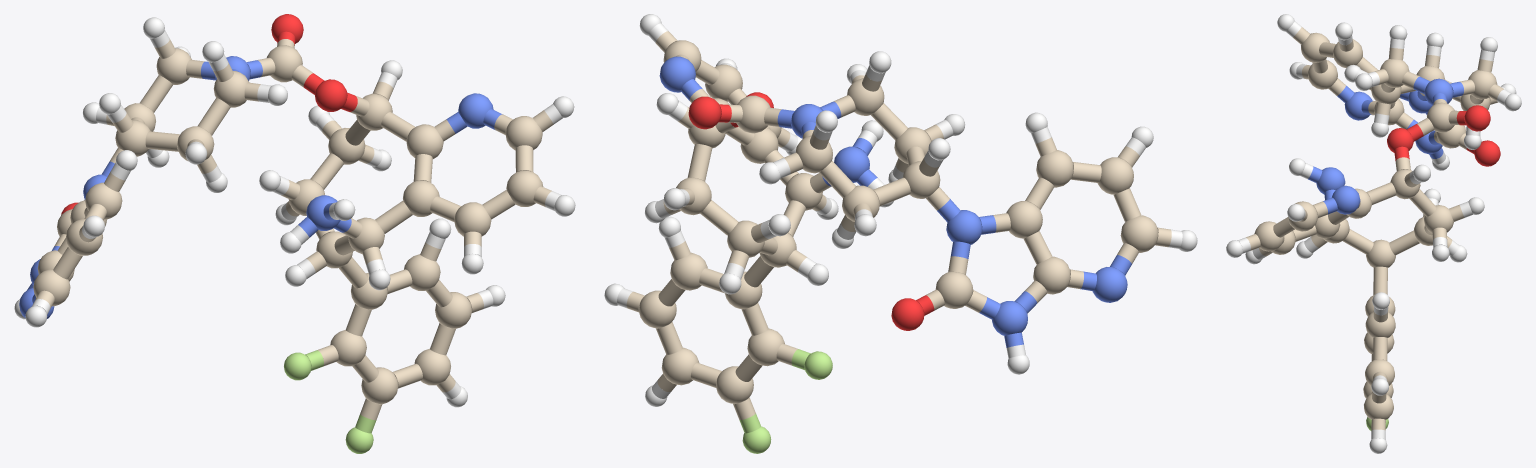
File: Rimegepant3.glb
3 renders of one model, left to right at view 1: azimuth 30°, elevation 25°; view 2: azimuth 150°, elevation 25°; view 3: azimuth 270°, elevation 25°, orthographic. The views are drawn at different scales.
Parts seen in each view (by area): view 1: subnode_22, subnode_33, subnode_32, subnode_27, subnode_21, subnode_29, subnode_37, subnode_30, subnode_34, subnode_35, subnode_24, subnode_8 (+23 smaller); view 2: subnode_36, subnode_26, subnode_28, subnode_31, subnode_38, subnode_25, subnode_30, subnode_29, subnode_37, subnode_35, subnode_10, subnode_34 (+29 smaller); view 3: subnode_8, subnode_12, subnode_24, subnode_32, subnode_36, subnode_17, subnode_18, subnode_19, subnode_38, subnode_3, subnode_37, subnode_30 (+23 smaller).
Boxes of the visible parts, <box> form: subnode_22: <box>406,124,443,158</box>; subnode_33: <box>505,116,542,150</box>; subnode_32: <box>506,170,543,206</box>; subnode_27: <box>454,202,491,236</box>; subnode_21: <box>403,180,439,216</box>; subnode_29: <box>330,330,366,366</box>; subnode_37: <box>414,348,450,385</box>; subnode_30: <box>404,254,440,290</box>; subnode_34: <box>361,367,398,404</box>; subnode_35: <box>435,292,471,328</box>; subnode_24: <box>266,45,302,82</box>; subnode_8: <box>458,93,493,128</box>; subnode_36: <box>1097,157,1133,194</box>; subnode_26: <box>935,272,973,308</box>; subnode_28: <box>1033,256,1070,294</box>; subnode_31: <box>1036,150,1073,187</box>; subnode_38: <box>1120,215,1158,252</box>; subnode_25: <box>1006,201,1042,238</box>; subnode_30: <box>670,252,707,290</box>; subnode_29: <box>747,328,784,366</box>; subnode_37: <box>661,347,699,385</box>; subnode_35: <box>639,290,676,328</box>; subnode_10: <box>1092,267,1127,302</box>; subnode_34: <box>716,366,753,403</box>; subnode_8: <box>1332,185,1360,214</box>; subnode_12: <box>1366,239,1395,267</box>; subnode_24: <box>1427,102,1454,132</box>; subnode_32: <box>1254,221,1284,251</box>; subnode_36: <box>1301,32,1329,62</box>; subnode_17: <box>1468,70,1497,99</box>; subnode_18: <box>1380,59,1409,87</box>; subnode_19: <box>1424,205,1453,233</box>; subnode_38: <box>1307,60,1337,89</box>; subnode_3: <box>1464,105,1490,131</box>; subnode_37: <box>1364,393,1393,419</box>; subnode_30: <box>1365,312,1395,337</box>.
Bounding box in the file's own units: 14.29 × 10.88 × 8.25.
